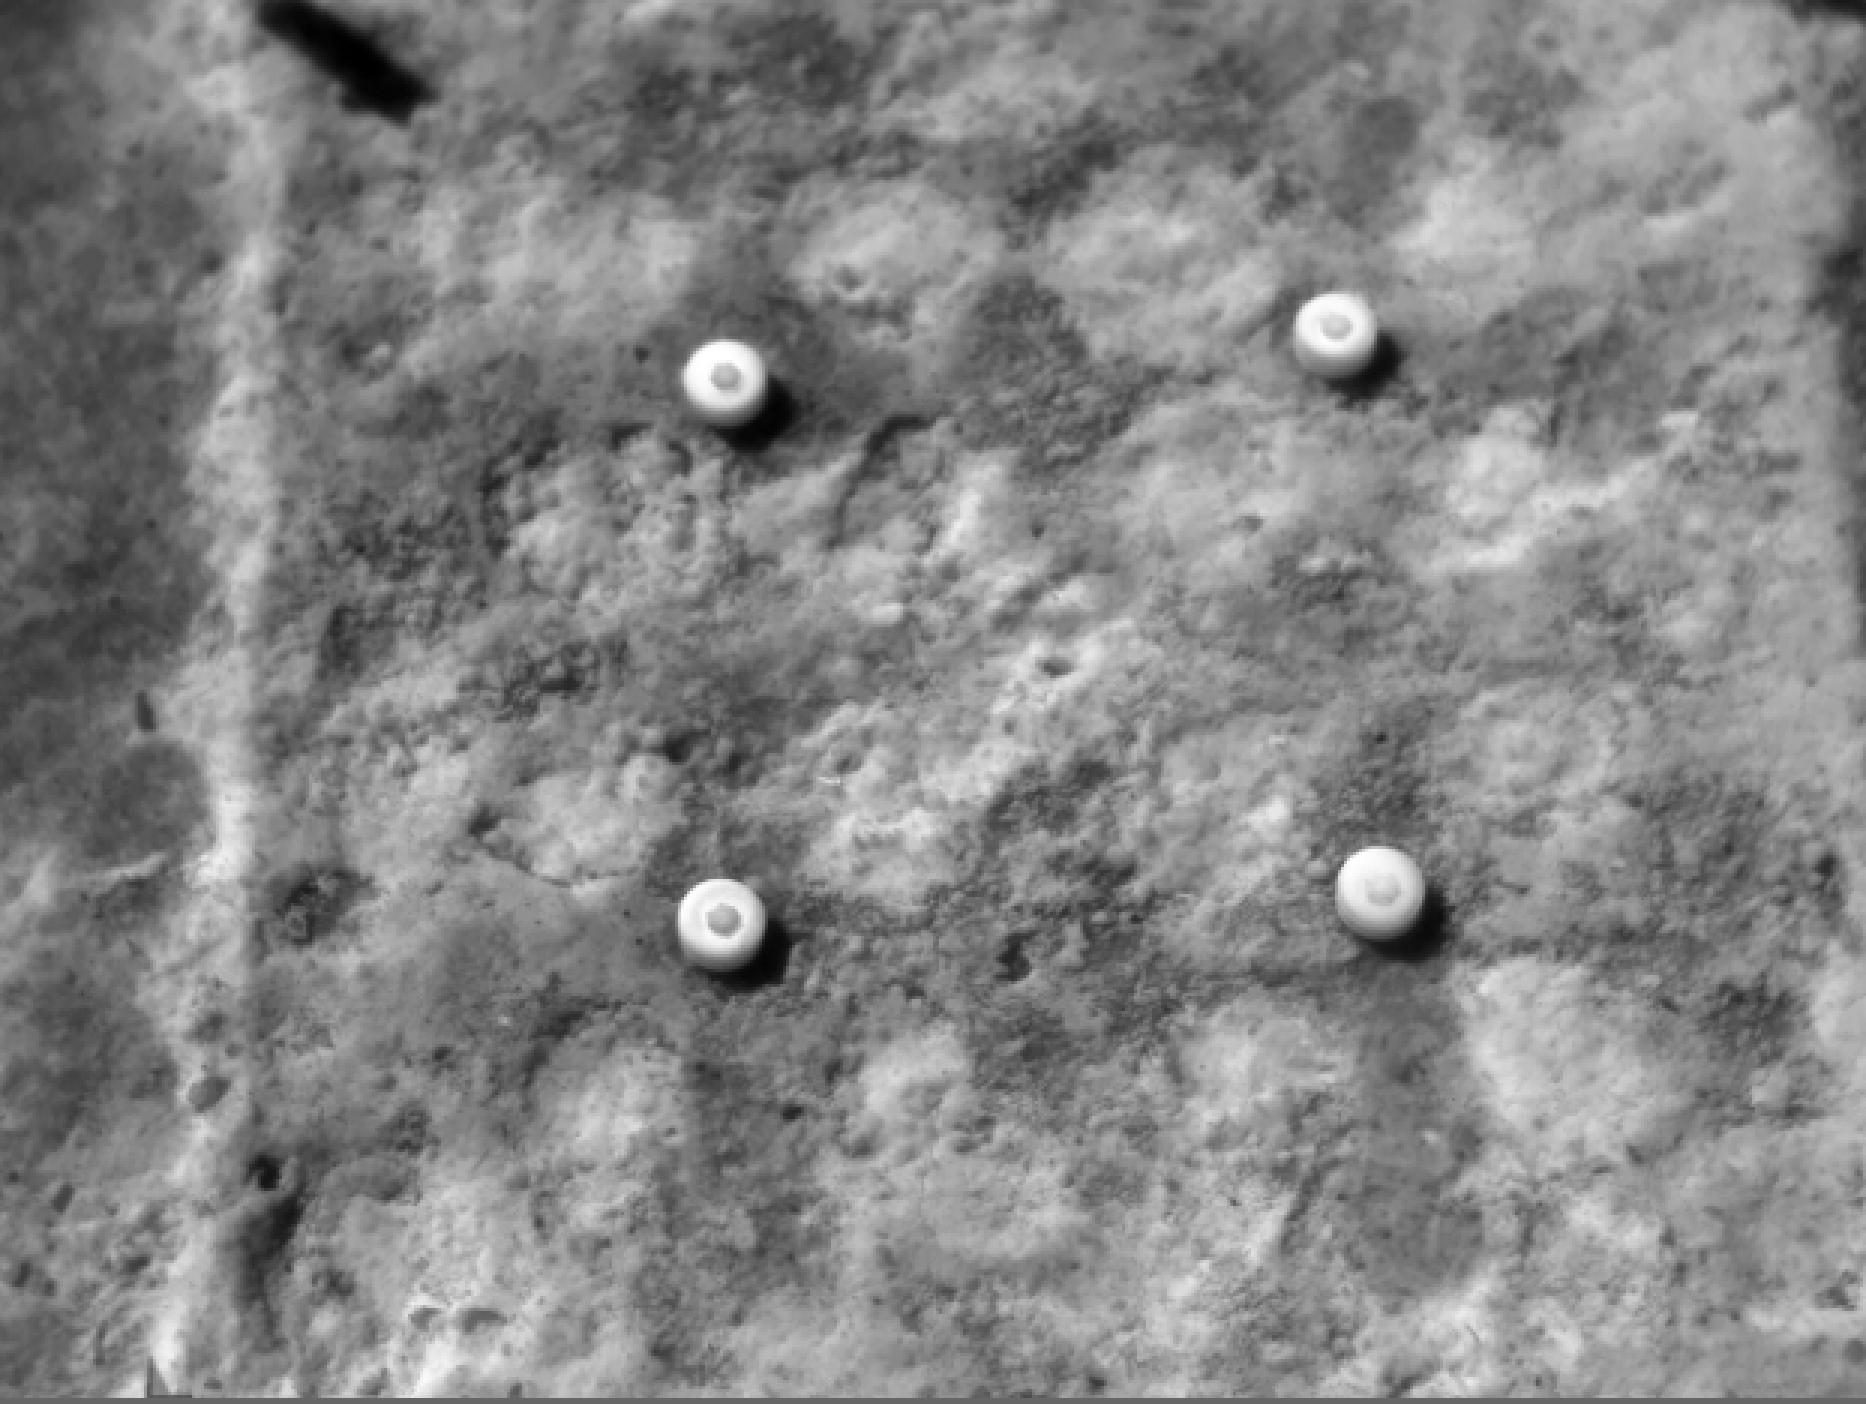mines-gjV8: (1338, 838, 1432, 944), (679, 877, 773, 975), (681, 335, 771, 429), (1298, 288, 1373, 383)
